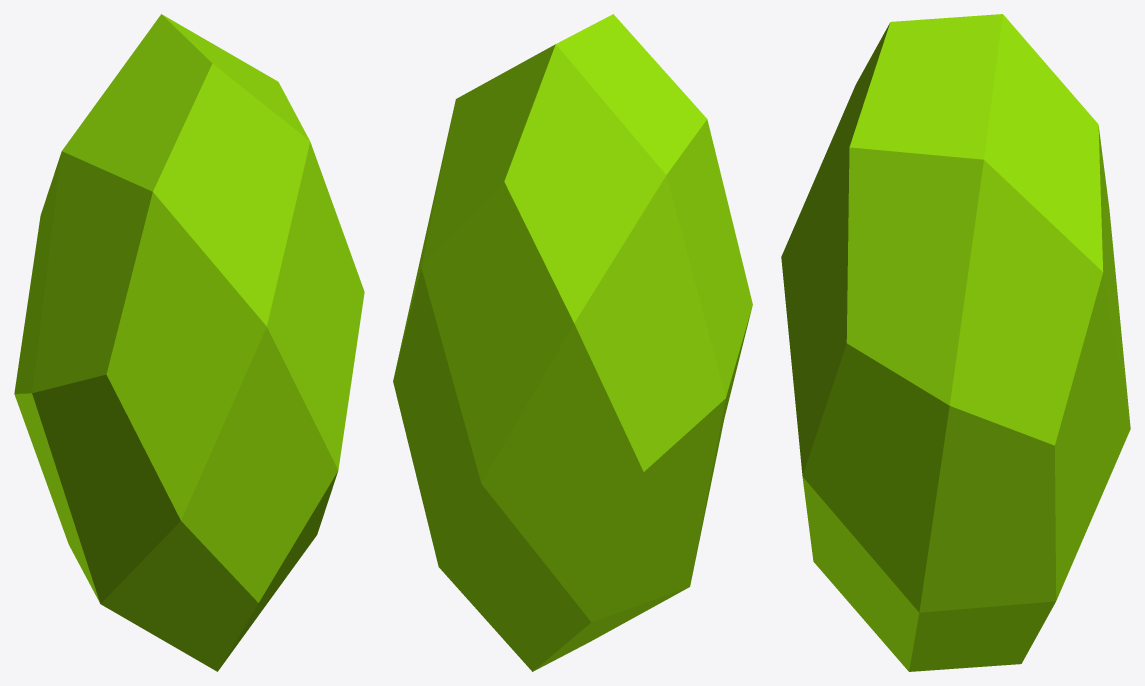
File: Buisson sans charisme.fbx
3 renders of one model, left to right at view 1: azimuth 30°, elevation 25°; view 2: azimuth 150°, elevation 25°; view 3: azimuth 270°, elevation 25°, orthographic. The views are drawn at different scales.
Visible parts, largest first — view 1: Cube; view 2: Cube; view 3: Cube.
Boxes of the visible parts, <box> form: Cube: <box>14,14,364,671</box>; Cube: <box>393,14,752,671</box>; Cube: <box>781,14,1130,671</box>.
Bounding box in the file's own units: 172 × 334 × 162.
